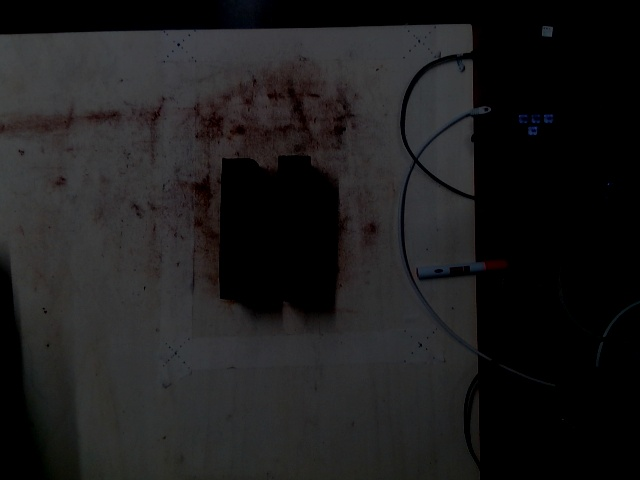brick-side: (218, 160, 255, 298), (275, 157, 310, 300)
